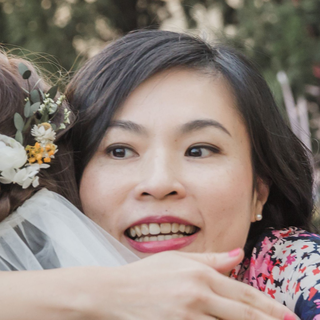eye: (178, 139, 226, 164), (99, 139, 143, 164)
